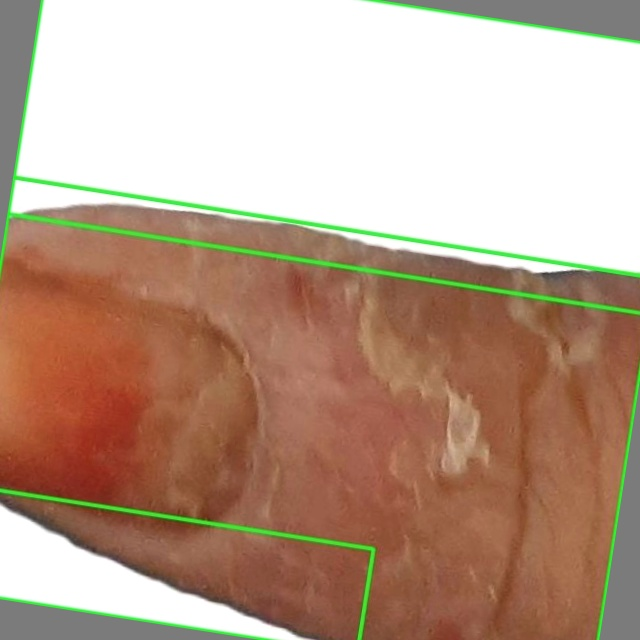Contact Dermatitis: (0, 177, 639, 639), (8, 0, 639, 312), (0, 490, 373, 639)
